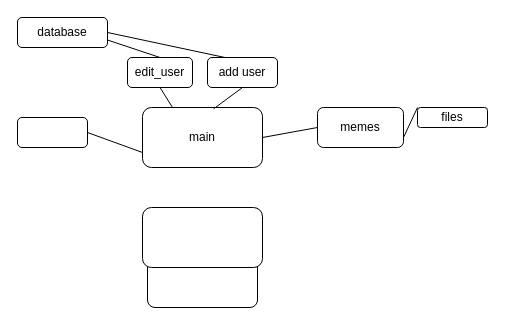
The diagram is 505 pixels wide and 325 high, and some of its shapes have lost their labels. Each missing label, with the centre of its shape:
"export" belongs at point (52, 132).
"Telegram" belongs at point (202, 282).
"User_interface" belongs at point (202, 237).
